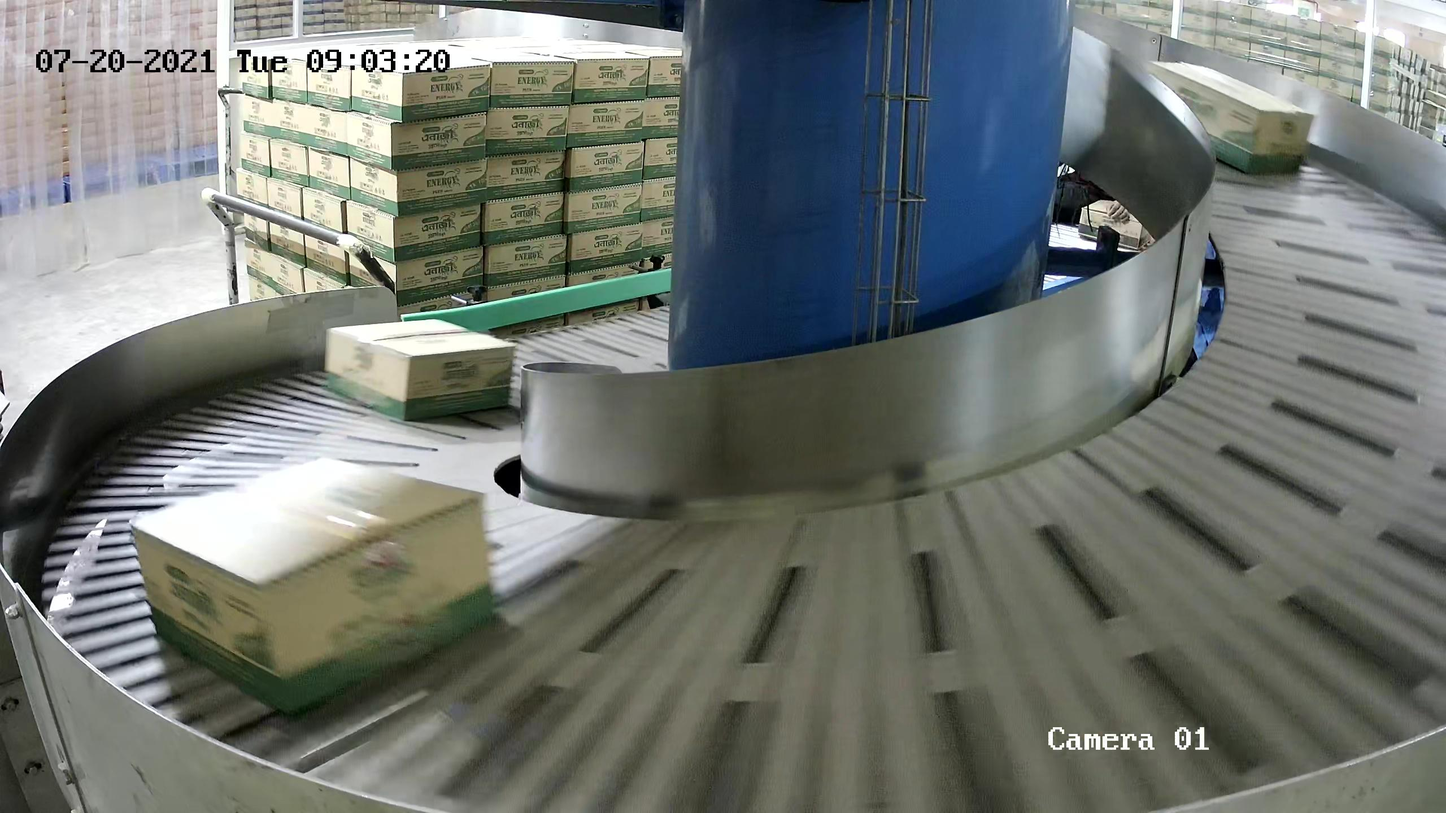Box: (128, 453, 497, 717), (323, 317, 517, 422), (1144, 59, 1316, 176)
